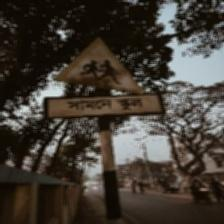School-in-front: (46, 35, 162, 121)
